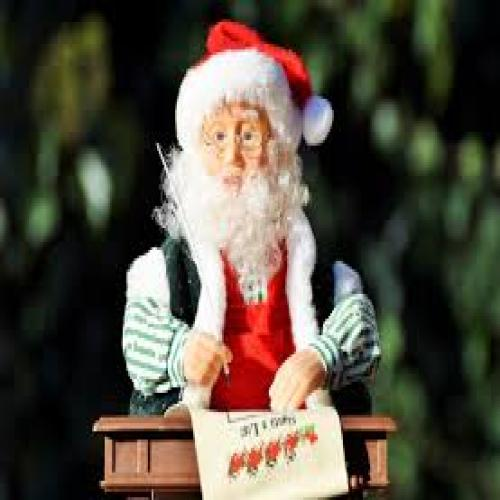Santa: (124, 17, 380, 418)
